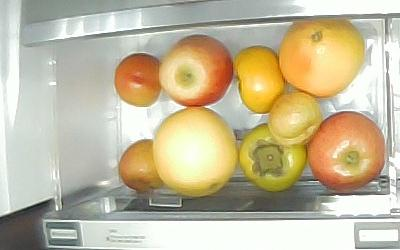apple: (307, 111, 385, 191), (158, 33, 233, 107)
grapefruit: (152, 106, 236, 197), (278, 20, 364, 97)
persimmon: (239, 123, 306, 191), (233, 45, 284, 114)
prune: (267, 90, 322, 145), (114, 52, 159, 107), (118, 138, 163, 191)
